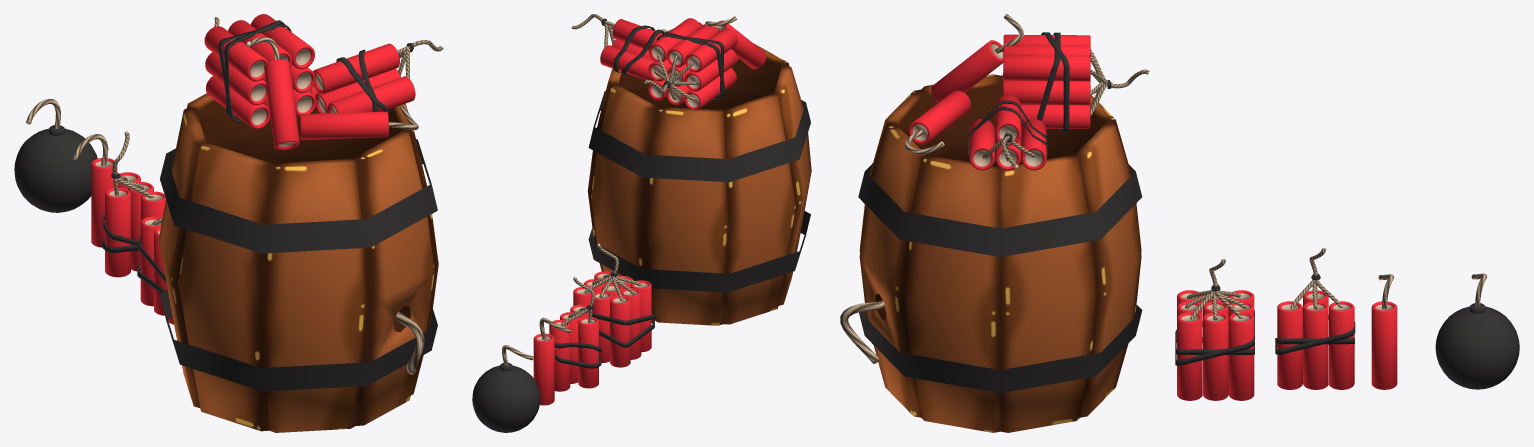
Rendered from TNT.fbx.
3 views of the same model, side by side, from view 1: azimuth 30°, elevation 25°; view 2: azimuth 150°, elevation 25°; view 3: azimuth 270°, elevation 25° (orthographic). The views are drawn at different scales.
Parts seen in each view (by area): view 1: Cylinder.005, Bomb, Roundcube.002, Roundcube.001, Cylinder.002; view 2: Cylinder.005, Roundcube.001, Bomb, Roundcube.002, Cylinder.002; view 3: Cylinder.005, Roundcube.001, Roundcube.002, Bomb, Cylinder.002.
Boxes of the visible parts, x1=… form: Cylinder.005: x1=158, y1=14, x2=443, y2=432; Bomb: x1=14, y1=98, x2=97, y2=212; Roundcube.002: x1=102, y1=131, x2=165, y2=277; Roundcube.001: x1=137, y1=216, x2=173, y2=324; Cylinder.002: x1=73, y1=134, x2=117, y2=247; Cylinder.005: x1=571, y1=14, x2=811, y2=325; Roundcube.001: x1=573, y1=243, x2=654, y2=367; Bomb: x1=472, y1=345, x2=540, y2=432; Roundcube.002: x1=549, y1=276, x2=601, y2=391; Cylinder.002: x1=533, y1=317, x2=571, y2=405; Cylinder.005: x1=840, y1=14, x2=1149, y2=432; Roundcube.001: x1=1175, y1=259, x2=1254, y2=400; Roundcube.002: x1=1275, y1=248, x2=1355, y2=389; Bomb: x1=1435, y1=273, x2=1519, y2=389; Cylinder.002: x1=1371, y1=274, x2=1397, y2=389.
Bounding box in the file's own units: 717 × 874 × 1544.
Materials: 2 (2 with a texture image).
